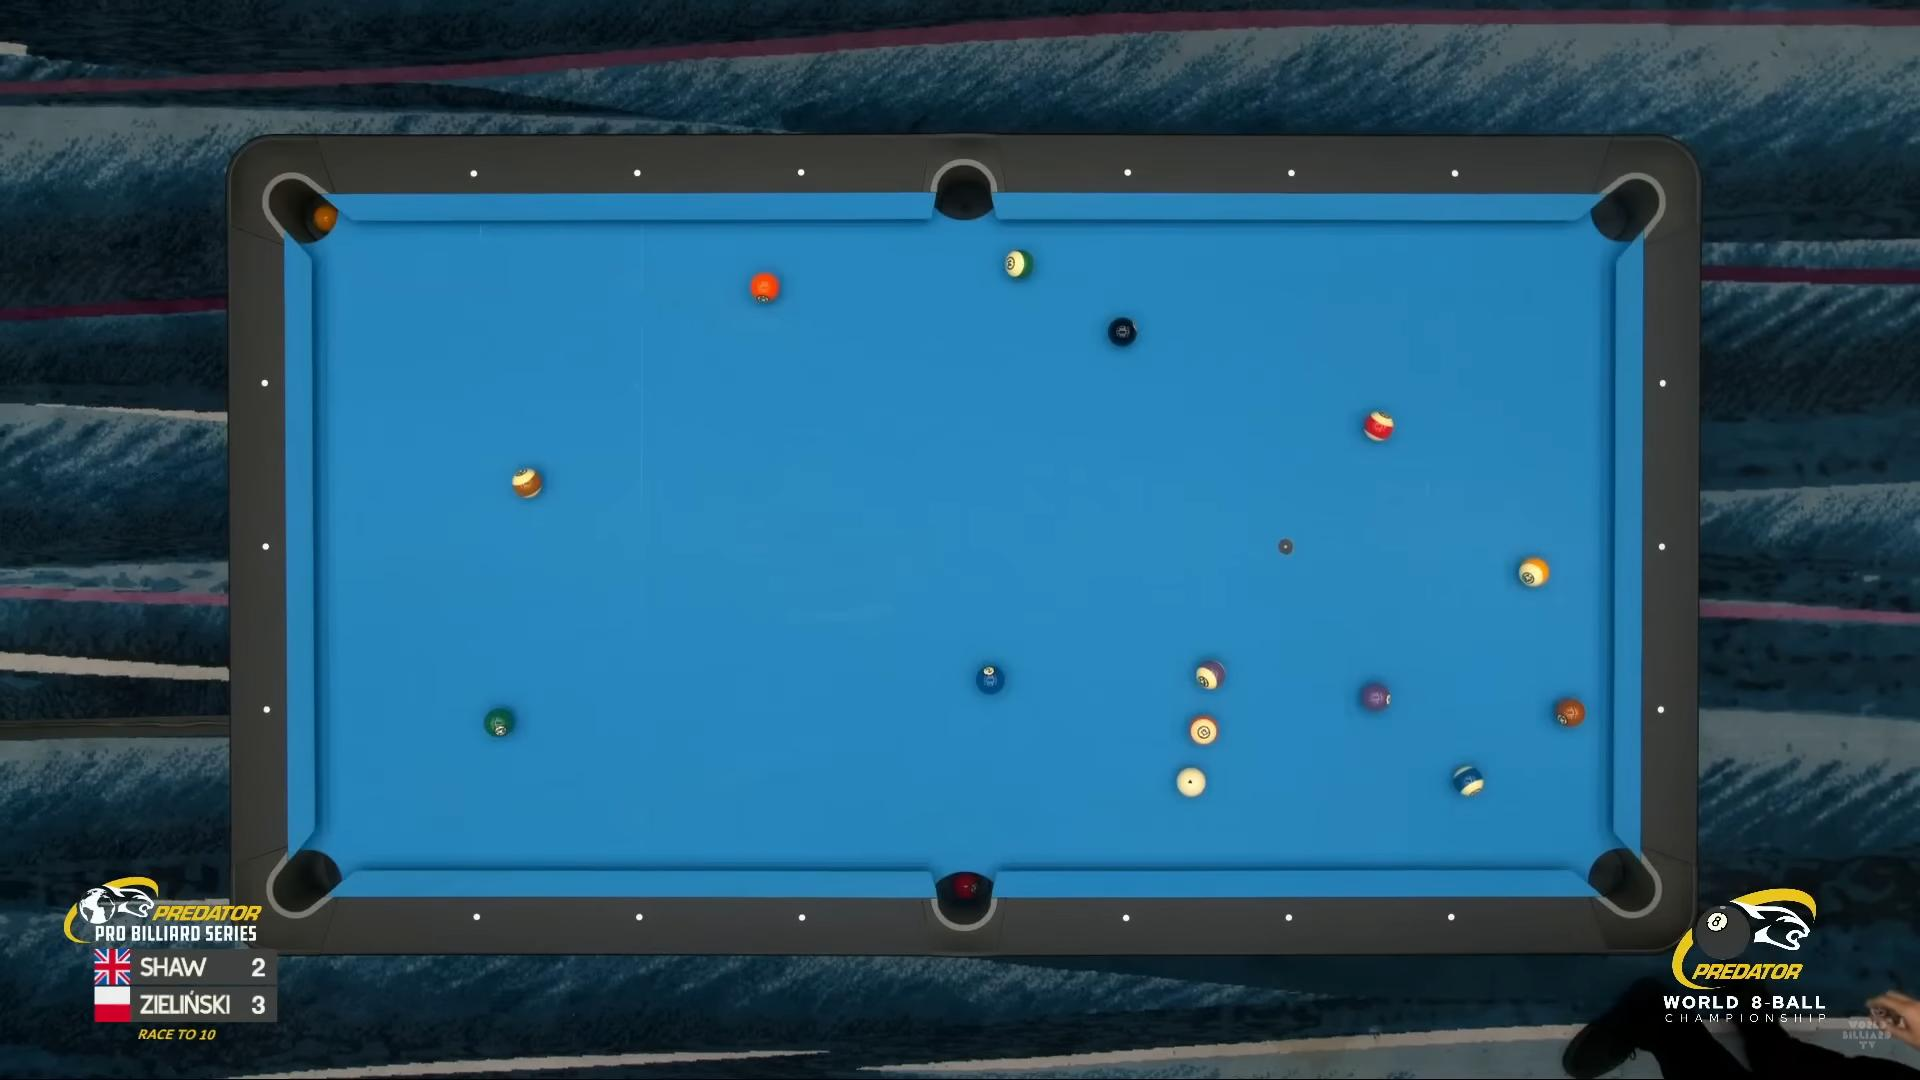Black: (1108, 316, 1138, 345)
Cue: (1176, 767, 1207, 796)
Dot: (257, 376, 272, 390), (467, 166, 481, 181), (1448, 166, 1462, 181), (1655, 376, 1669, 390), (1282, 910, 1296, 924), (1118, 911, 1133, 926), (258, 541, 273, 554), (794, 166, 808, 179), (1121, 166, 1135, 179), (1284, 166, 1299, 179), (1654, 704, 1668, 717), (1444, 911, 1458, 924), (794, 911, 808, 924), (632, 911, 646, 924), (469, 910, 483, 924), (260, 703, 273, 716), (632, 166, 645, 179), (1655, 541, 1668, 554)
Solid: (1556, 698, 1586, 727), (976, 666, 1005, 695), (752, 273, 781, 302), (484, 708, 513, 737), (1361, 682, 1390, 709)
Striped: (1453, 766, 1485, 796), (1364, 410, 1395, 440), (1519, 556, 1549, 587), (1195, 659, 1225, 690), (512, 468, 542, 498), (1189, 716, 1218, 745), (1005, 249, 1034, 278)
